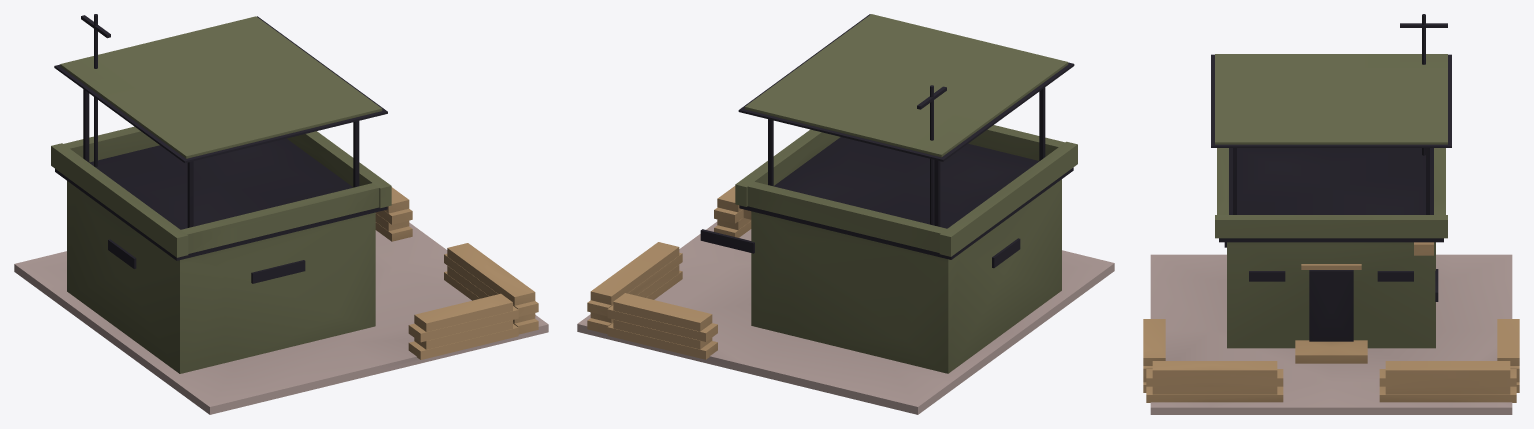
The picture shows the model from 3 angles, left to right: view 1: azimuth 30°, elevation 25°; view 2: azimuth 150°, elevation 25°; view 3: azimuth 270°, elevation 25°; orthographic projection. The views are drawn at different scales.
Parts seen in each view (by area): view 1: body_pal_olive, body_pal_sidewalk, body_pal_uiDark, body_pal_khaki; view 2: body_pal_olive, body_pal_sidewalk, body_pal_uiDark, body_pal_khaki; view 3: body_pal_olive, body_pal_sidewalk, body_pal_uiDark, body_pal_khaki.
Boxes of the visible parts, left/top/right/bottom form: body_pal_olive: left=51, top=16, right=391, bottom=373; body_pal_sidewalk: left=14, top=222, right=548, bottom=414; body_pal_uiDark: left=54, top=14, right=387, bottom=283; body_pal_khaki: left=375, top=187, right=538, bottom=359; body_pal_olive: left=735, top=14, right=1077, bottom=373; body_pal_sidewalk: left=577, top=222, right=1114, bottom=414; body_pal_uiDark: left=700, top=14, right=1074, bottom=268; body_pal_khaki: left=587, top=186, right=751, bottom=359; body_pal_olive: left=1215, top=54, right=1447, bottom=348; body_pal_sidewalk: left=1150, top=254, right=1512, bottom=414; body_pal_uiDark: left=1211, top=14, right=1451, bottom=341; body_pal_khaki: left=1143, top=242, right=1519, bottom=402.
Size of the model in its own units: 9 by 7.2 by 9.35.
